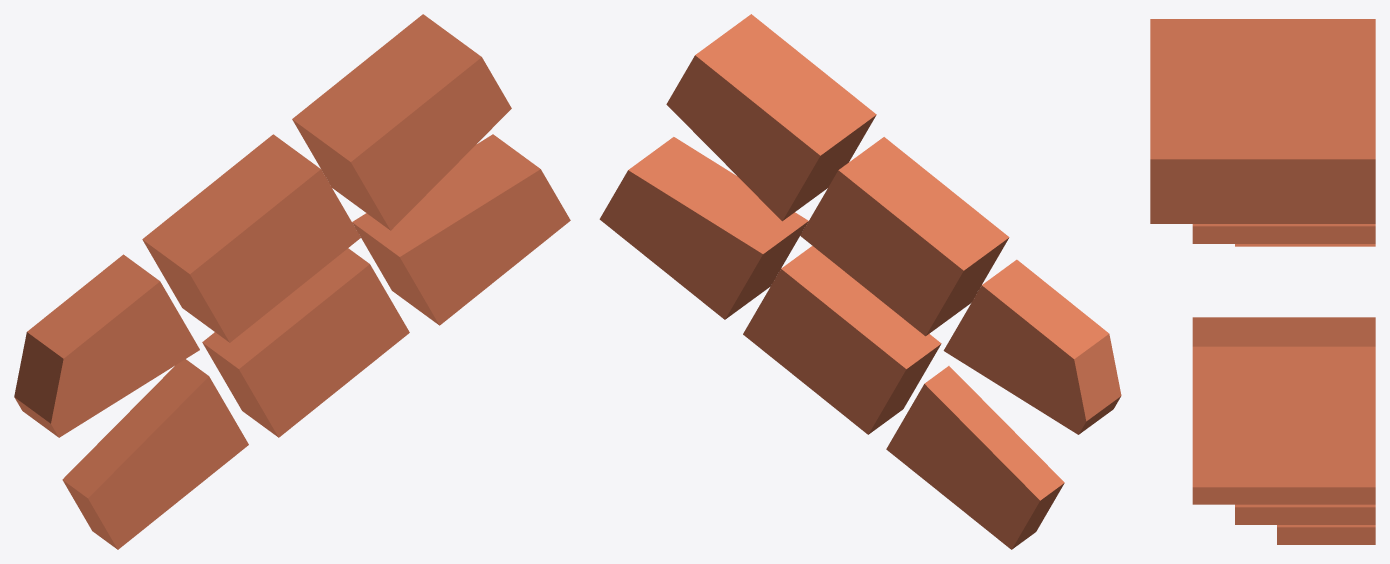
Rendered from buildings_v2.obj.
The picture shows the model from 3 angles, left to right: view 1: azimuth 30°, elevation 25°; view 2: azimuth 150°, elevation 25°; view 3: azimuth 270°, elevation 25°; orthographic projection. The views are drawn at different scales.
Parts seen in each view (by area): view 1: mesh; view 2: mesh; view 3: mesh.
Boxes of the visible parts, x1=… form: mesh: x1=14, y1=14, x2=570, y2=549; mesh: x1=599, y1=14, x2=1121, y2=549; mesh: x1=1150, y1=19, x2=1375, y2=544.
Bounding box in the file's own units: 240 × 196 × 48.
